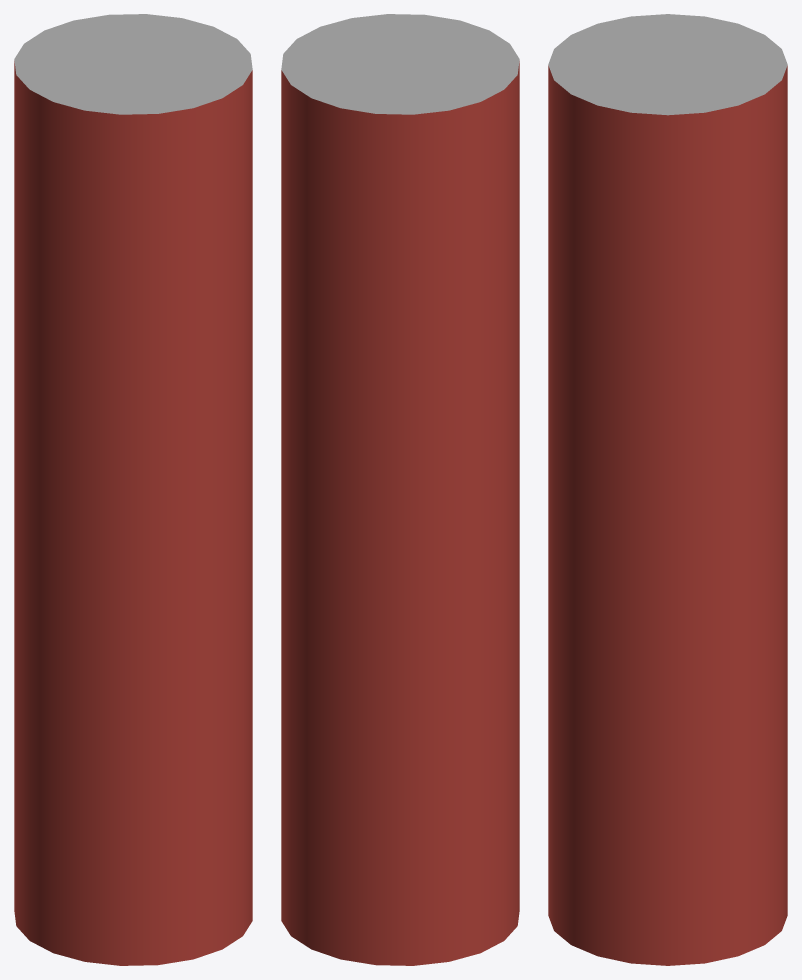
The model's file is Prongles_Can.fbx.
3 renders of one model, left to right at view 1: azimuth 30°, elevation 25°; view 2: azimuth 150°, elevation 25°; view 3: azimuth 270°, elevation 25°, orthographic.
Visible parts, largest first — view 1: Prongles_Can; view 2: Prongles_Can; view 3: Prongles_Can.
Part boxes in pixels (bbox=[...]): Prongles_Can: bbox=[14, 14, 252, 965]; Prongles_Can: bbox=[281, 14, 519, 965]; Prongles_Can: bbox=[548, 14, 787, 965].
Size of the model in its own units: 1.87 by 7.35 by 1.87.
